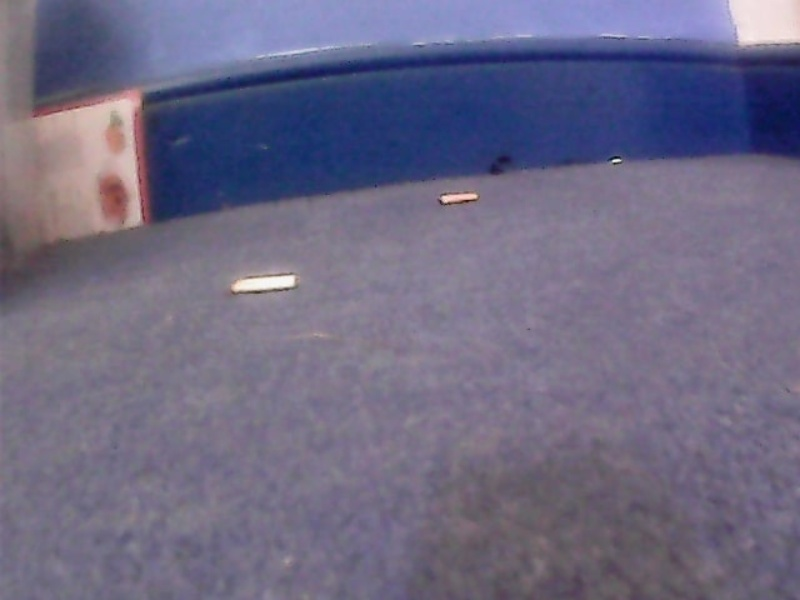cig: (229, 270, 303, 298), (439, 191, 481, 206)
